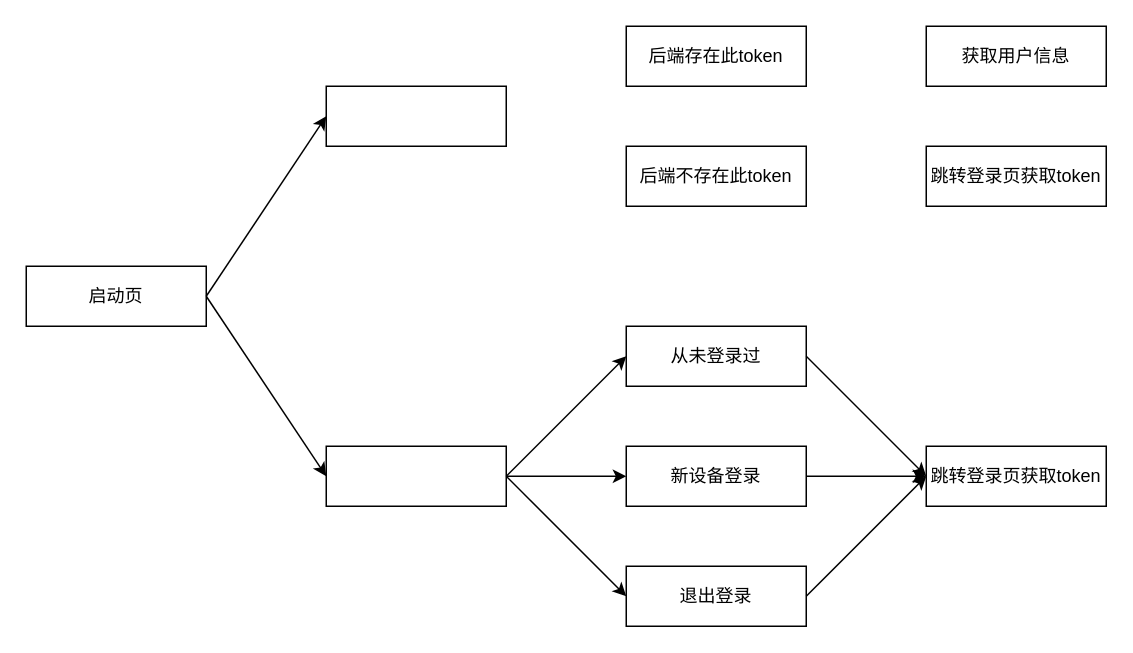
Some shapes in this 1133 by 653 pixel diagram are drawn without their labels. Each missing label, with the centre of its shape:
本地无token: (415,475)
本地有token进入首页: (415,115)
